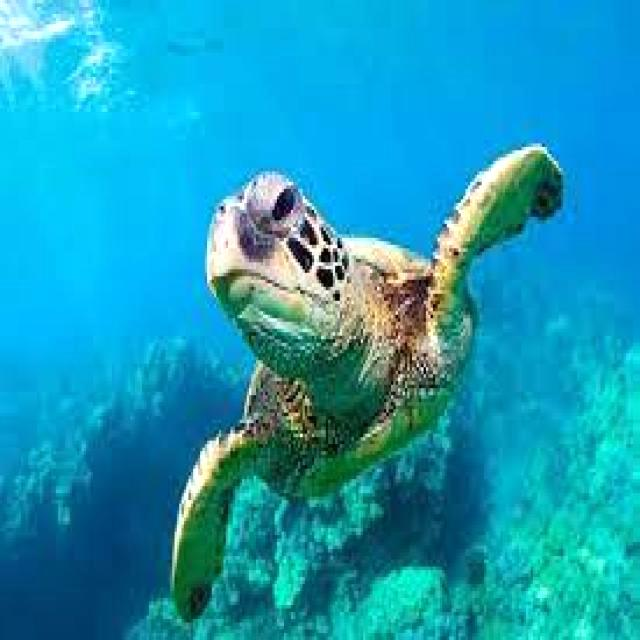Sea turtle: (169, 141, 567, 640)
